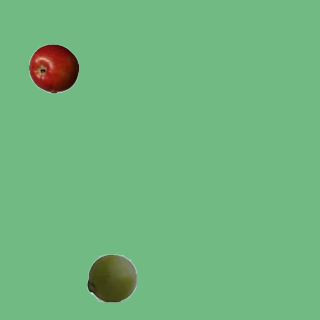Apple Braeburn: (28, 43, 78, 93)
Grape White 4: (86, 252, 136, 302)
